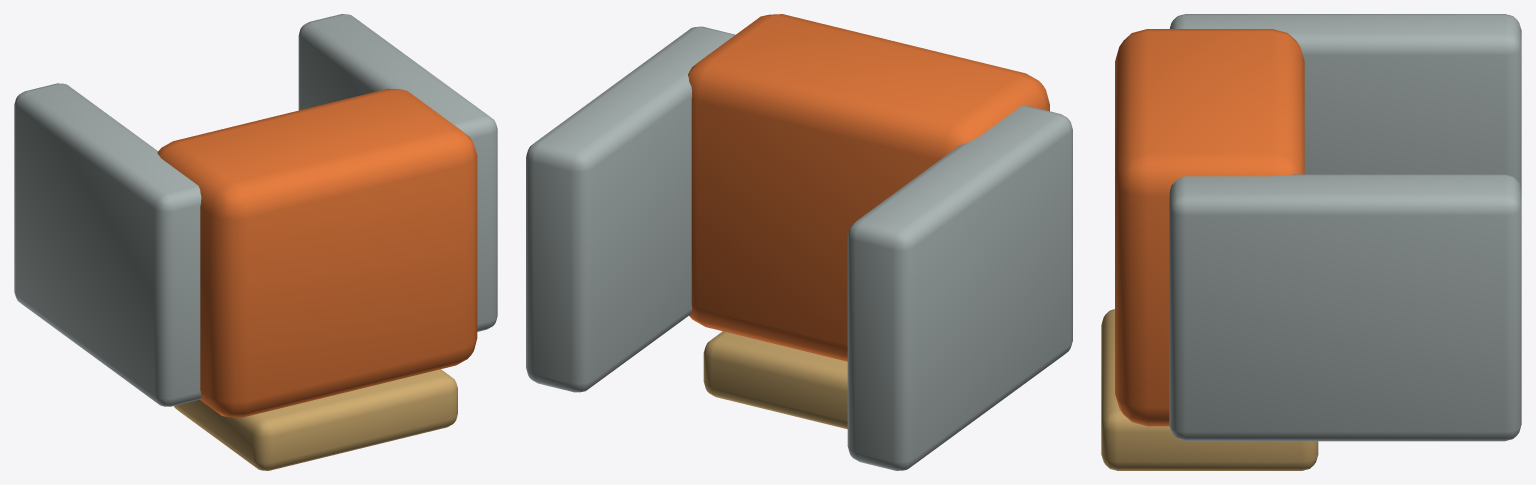
Rendered from clamp.glb.
3 renders of one model, left to right at view 1: azimuth 30°, elevation 25°; view 2: azimuth 150°, elevation 25°; view 3: azimuth 270°, elevation 25°, orthographic. The views are drawn at different scales.
Parts seen in each view (by area): view 1: Brace housing, Brace jaw, Brace jaw.001, Threaded tightening block; view 2: Brace housing, Brace jaw, Brace jaw.001, Threaded tightening block; view 3: Brace jaw.001, Brace housing, Brace jaw, Threaded tightening block.
Boxes of the visible parts, <box> form: Brace housing: <box>157,88,477,417</box>; Brace jaw: <box>14,83,201,406</box>; Brace jaw.001: <box>298,14,497,331</box>; Threaded tightening block: <box>174,369,457,470</box>; Brace housing: <box>688,14,1049,361</box>; Brace jaw: <box>847,105,1072,470</box>; Brace jaw.001: <box>526,26,735,392</box>; Threaded tightening block: <box>703,331,847,429</box>; Brace jaw.001: <box>1169,174,1521,441</box>; Brace housing: <box>1115,29,1304,426</box>; Brace jaw: <box>1169,14,1521,189</box>; Threaded tightening block: <box>1101,309,1318,470</box>.
Size of the model in its own units: 0.084 by 0.0665 by 0.0775.
